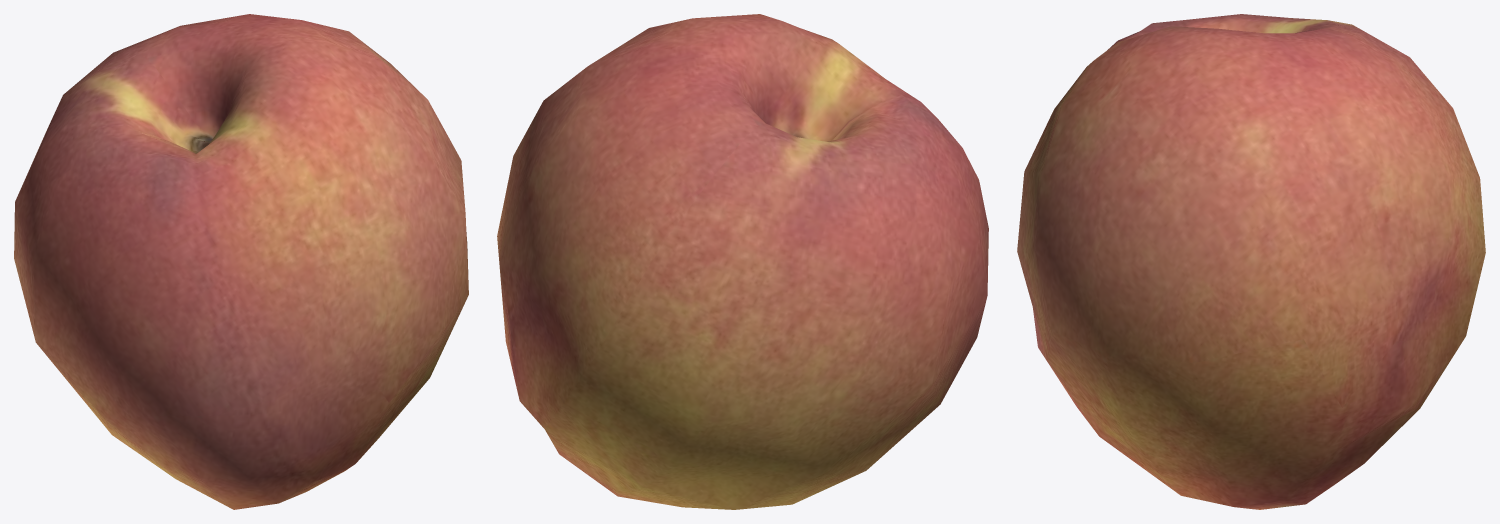
The model's file is A28_Peach_low.fbx.
The picture shows the model from 3 angles, left to right: view 1: azimuth 30°, elevation 25°; view 2: azimuth 150°, elevation 25°; view 3: azimuth 270°, elevation 25°; orthographic projection. The views are drawn at different scales.
Visible parts, largest first — view 1: A28_Peach_low; view 2: A28_Peach_low; view 3: A28_Peach_low.
Boxes of the visible parts, box(x1,y1,x2,y2) form: A28_Peach_low: box(14, 14, 468, 509); A28_Peach_low: box(497, 14, 988, 509); A28_Peach_low: box(1017, 14, 1485, 509).
Size of the model in its own units: 7.9 by 7.67 by 8.09.
1 material, 1 textured.
